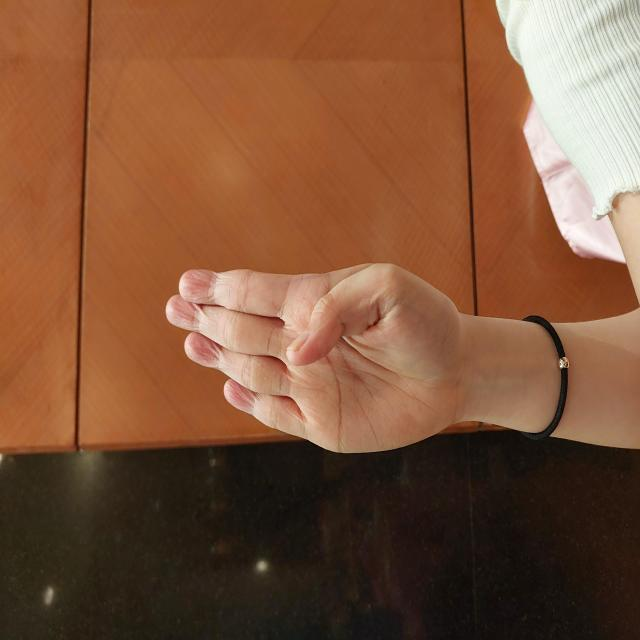B: (185, 164, 380, 466)
